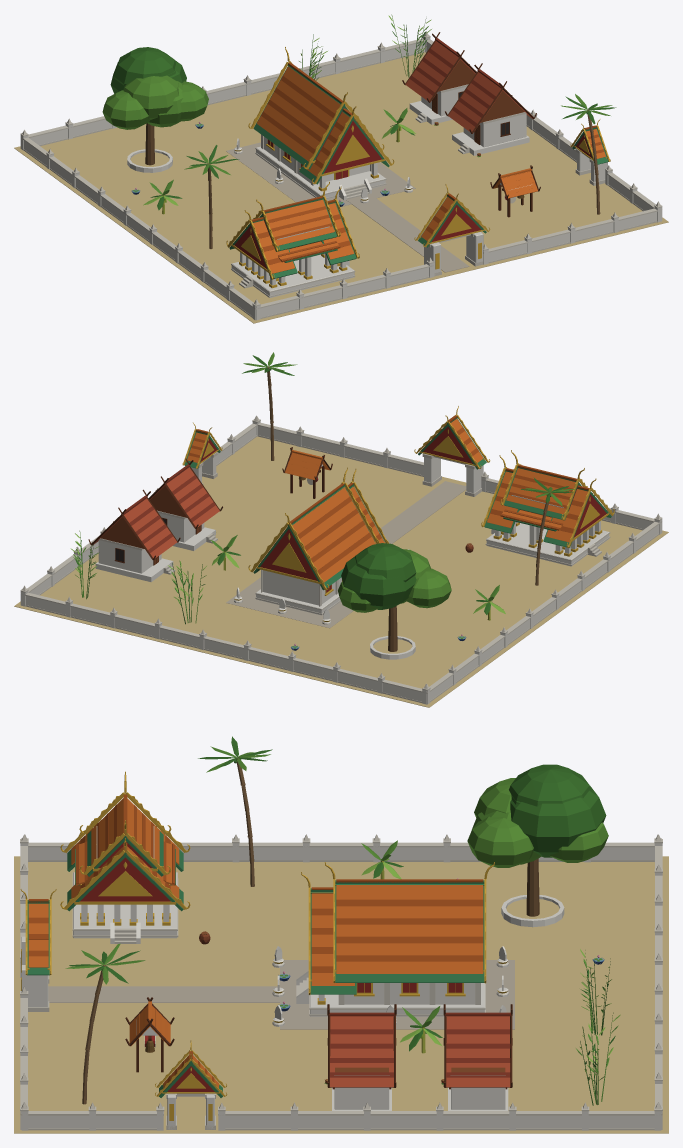
Rendered from temple_1.glb.
3 views of the same model, one above another, from view 1: azimuth 30°, elevation 25°; view 2: azimuth 150°, elevation 25°; view 3: azimuth 270°, elevation 25° (orthographic). The views are drawn at different scales.
Parts seen in each view (by area): view 1: body; view 2: body; view 3: body.
Part boxes in pixels (bbox=[...]): body: bbox=[14, 14, 668, 323]; body: bbox=[14, 352, 668, 707]; body: bbox=[14, 736, 668, 1133].
Size of the model in its own units: 47.9 by 12.13 by 47.9.
